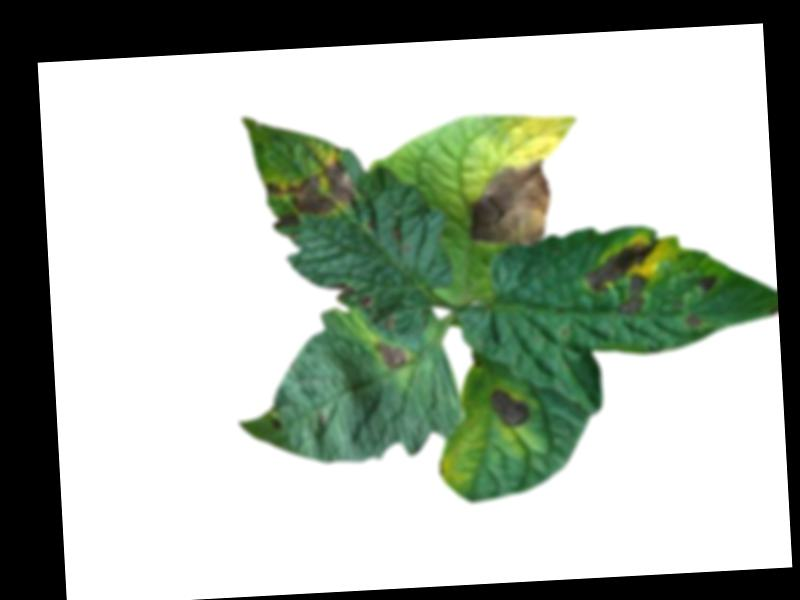Early_blight: (472, 158, 553, 249), (581, 238, 664, 316), (260, 159, 358, 219), (488, 387, 529, 430), (330, 281, 372, 310), (374, 342, 408, 372), (273, 212, 298, 233), (697, 275, 716, 293), (683, 314, 701, 329), (268, 418, 279, 431)
